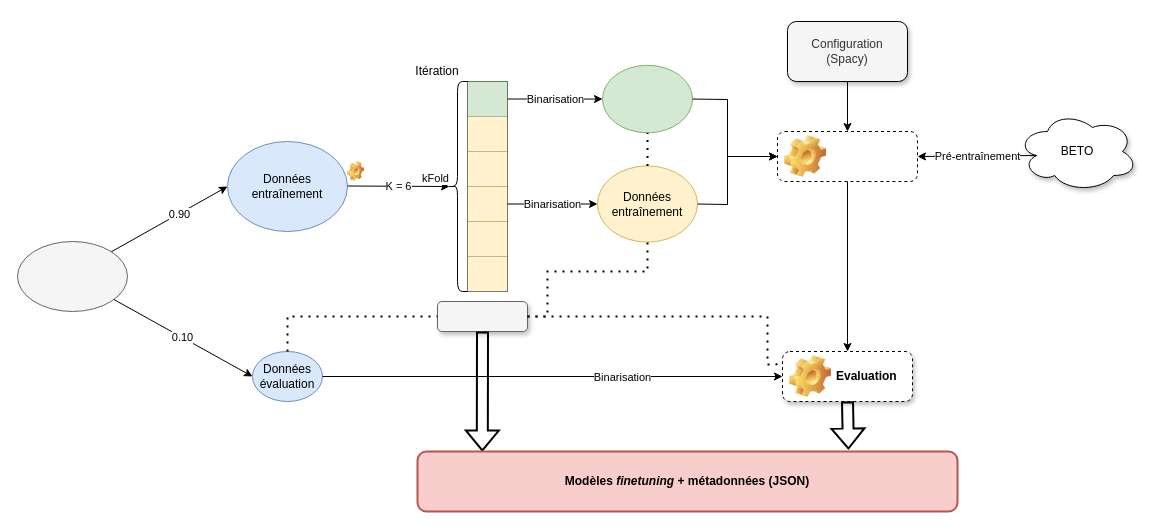
The diagram is 1161 pixels wide and 530 high, and some of its shapes have lost their labels. Each missing label, with the centre of its shape:
"Dataset annoté (JSONL)" goes at [72,276].
"Données développement" goes at [647,98].
"Entrainement" goes at [847,156].
"Métadonnées" goes at [483,317].
